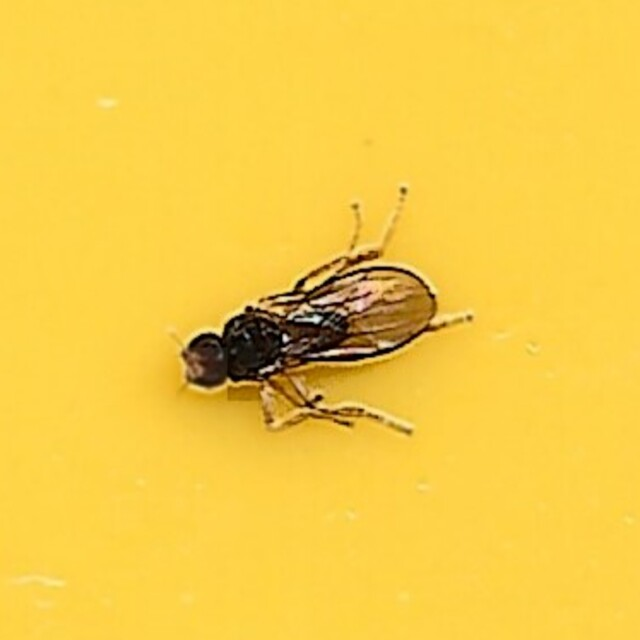Brachycera: (171, 198, 469, 442)
